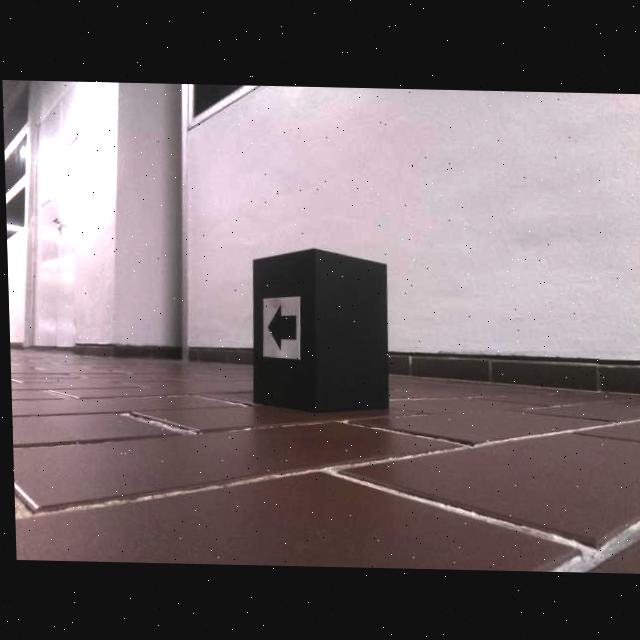LEFT: (265, 303, 295, 351)
